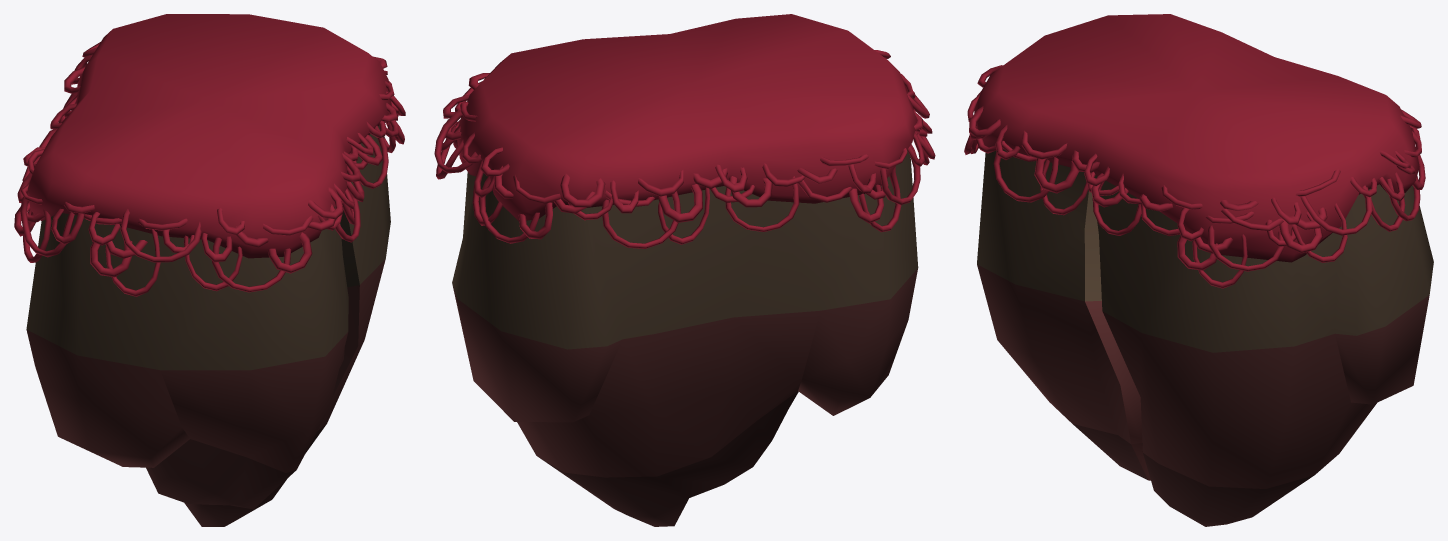
File: Alien_Island01.fbx
3 views of the same model, side by side, from view 1: azimuth 30°, elevation 25°; view 2: azimuth 150°, elevation 25°; view 3: azimuth 270°, elevation 25° (orthographic). The views are drawn at different scales.
Visible parts, largest first — view 1: Alien_Island01; view 2: Alien_Island01; view 3: Alien_Island01.
Part boxes in pixels (<box>): Alien_Island01: <box>14,14,405,526</box>; Alien_Island01: <box>434,14,935,526</box>; Alien_Island01: <box>964,14,1433,526</box>.
Bounding box in the file's own units: 12438 × 12880 × 12957.
